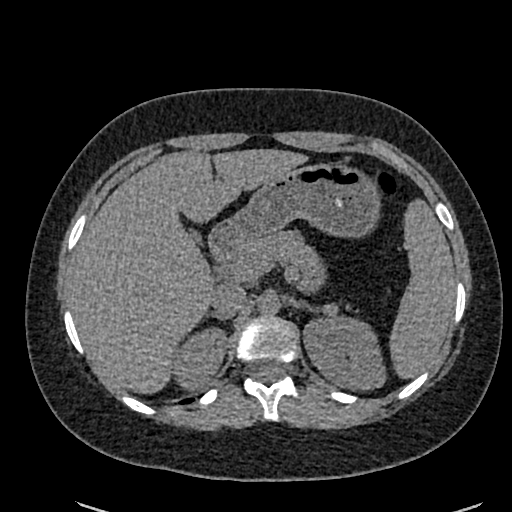Lesion: (316, 298, 342, 319)
